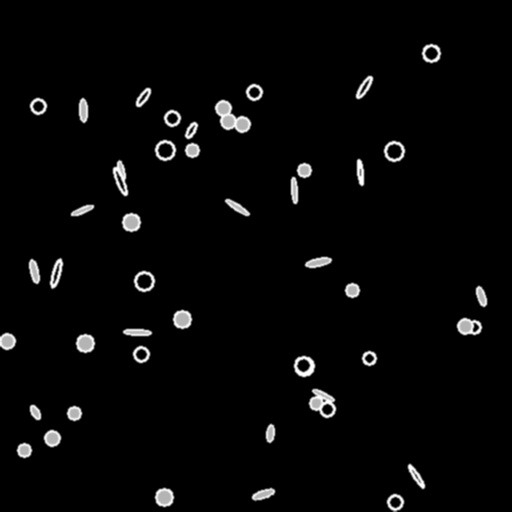pseudomonas: (224, 198, 250, 216), (112, 167, 128, 195), (407, 464, 425, 488), (355, 75, 373, 99), (49, 258, 63, 288), (134, 87, 152, 107), (251, 487, 275, 501), (312, 388, 334, 402), (28, 259, 40, 283), (71, 204, 93, 216), (184, 121, 198, 139), (475, 286, 487, 306), (306, 257, 330, 267), (28, 404, 42, 420), (116, 160, 126, 180), (79, 98, 87, 122), (356, 160, 364, 184), (124, 329, 150, 335), (266, 424, 274, 442), (291, 178, 297, 202)
synechocystis: (156, 141, 174, 159), (385, 142, 403, 160), (295, 357, 313, 375), (135, 272, 153, 290), (295, 357, 311, 373), (174, 311, 190, 327), (156, 489, 172, 505), (77, 335, 93, 351), (123, 214, 139, 230), (423, 45, 439, 61), (388, 495, 402, 509), (458, 319, 472, 333), (31, 99, 45, 113), (221, 114, 235, 128), (216, 101, 230, 115), (0, 334, 14, 348), (247, 85, 261, 99), (320, 402, 334, 416), (45, 431, 59, 445), (134, 347, 148, 361), (235, 117, 249, 131), (165, 111, 179, 125), (468, 321, 480, 333), (18, 444, 30, 456), (310, 397, 322, 409), (68, 407, 80, 419), (298, 164, 310, 176), (363, 352, 375, 364), (186, 144, 198, 156), (346, 284, 358, 296)
